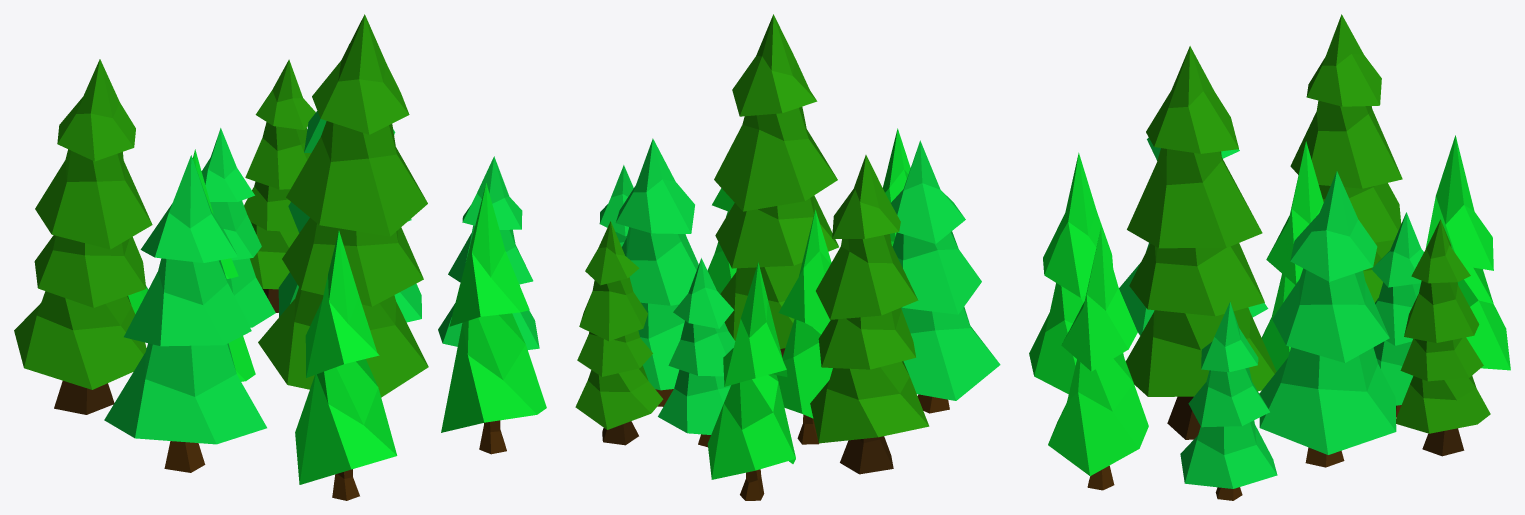
Rendered from forest.glb.
The picture shows the model from 3 angles, left to right: view 1: azimuth 30°, elevation 25°; view 2: azimuth 150°, elevation 25°; view 3: azimuth 270°, elevation 25°; orthographic projection. The views are drawn at different scales.
Visible parts, largest first — view 1: SpruceTree3, SpruceTree3.001, SpruceTree1, SpruceTree2, SpruceTree2.001, SpruceTree3.002, SpruceTree1.002, SpruceTree1.003, SpruceTree1.001, SpruceTree2.002; view 2: SpruceTree3.001, SpruceTree3, SpruceTree1, SpruceTree1.001, SpruceTree2.003, SpruceTree3.002, SpruceTree1.002, SpruceTree2.002, SpruceTree2, SpruceTree1.003, SpruceTree2.001; view 3: SpruceTree3, SpruceTree1.001, SpruceTree3.001, SpruceTree2.001, SpruceTree3.002, SpruceTree1.003, SpruceTree2, SpruceTree2.003, SpruceTree1.002, SpruceTree2.002, SpruceTree1.
Part boxes in pixels (bbox=[...]): SpruceTree3: bbox=[258, 14, 428, 397]; SpruceTree3.001: bbox=[14, 59, 152, 414]; SpruceTree1: bbox=[104, 155, 266, 472]; SpruceTree2: bbox=[295, 230, 397, 500]; SpruceTree2.001: bbox=[441, 183, 546, 454]; SpruceTree3.002: bbox=[244, 59, 315, 312]; SpruceTree1.002: bbox=[201, 128, 275, 327]; SpruceTree1.003: bbox=[438, 156, 539, 349]; SpruceTree1.001: bbox=[278, 44, 421, 322]; SpruceTree2.002: bbox=[192, 149, 255, 381]; SpruceTree3.001: bbox=[810, 155, 929, 474]; SpruceTree3: bbox=[714, 14, 838, 357]; SpruceTree1: bbox=[891, 140, 1000, 413]; SpruceTree1.001: bbox=[616, 138, 698, 406]; SpruceTree2.003: bbox=[707, 262, 795, 500]; SpruceTree3.002: bbox=[575, 221, 663, 445]; SpruceTree1.002: bbox=[658, 258, 735, 447]; SpruceTree2.002: bbox=[776, 209, 832, 444]; SpruceTree2: bbox=[883, 128, 910, 246]; SpruceTree1.003: bbox=[599, 165, 633, 246]; SpruceTree2.001: bbox=[707, 188, 736, 293]; SpruceTree3: bbox=[1125, 46, 1276, 439]; SpruceTree1.001: bbox=[1259, 171, 1396, 467]; SpruceTree3.001: bbox=[1290, 14, 1402, 302]; SpruceTree2.001: bbox=[1048, 226, 1148, 490]; SpruceTree3.002: bbox=[1396, 219, 1490, 456]; SpruceTree1.003: bbox=[1180, 301, 1277, 500]; SpruceTree2: bbox=[1029, 152, 1123, 393]; SpruceTree2.003: bbox=[1425, 135, 1510, 370]; SpruceTree1.002: bbox=[1371, 212, 1423, 417]; SpruceTree2.002: bbox=[1261, 141, 1323, 371]; SpruceTree1: bbox=[1119, 137, 1268, 335].
Size of the model in its own units: 1.5 by 1.33 by 1.45.
